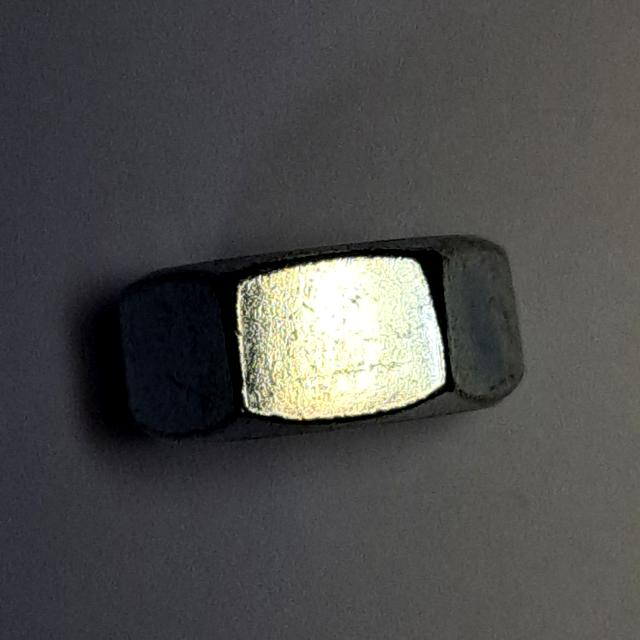Side_Excellent: (104, 215, 538, 452)
